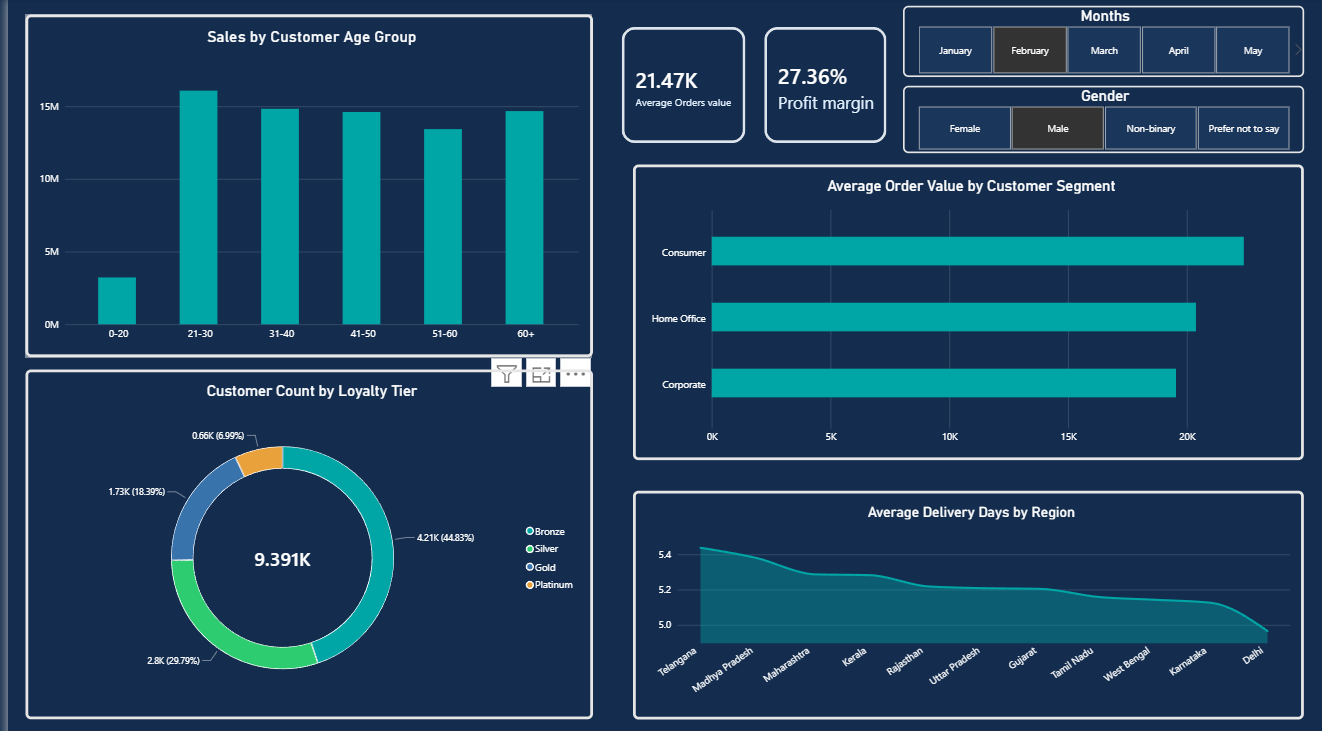

Layout of this report page (visuals, bound fields, positions):
{"tool":"powerbi","page":{"name":"Customer & Market Analysis","canvas":[1920,1080],"ordinal":2},"visuals":[{"type":"clusteredColumnChart","title":"\tSales by Customer Age Group","fields":{"Category":["customers.Age Group"],"Y":["Sum(orders.sales_amount)"]},"box":[24.7,24.7,821.3,496.1],"z":0},{"type":"donutChart","title":"\tCustomer Count by Loyalty Tier","fields":{"Category":["customers.loyalty_tier"],"Y":["CountNonNull(customers.customer_id)"]},"box":[24.7,539.3,821.3,506.3],"z":1000},{"type":"barChart","title":"\tAverage Order Value by Customer Segment","fields":{"Category":["customers.customer_segment"],"Y":["orders.Average Orders value"]},"box":[905.7,242.9,971.5,428.1],"z":2000},{"type":"areaChart","title":"Average Delivery Days by Region","fields":{"Category":["orders.region"],"Y":["Avg(orders.delivery_days)"]},"box":[905.7,714.2,971.5,331.4],"z":3000},{"type":"cardVisual","fields":{"Data":["orders.Average Orders value"]},"box":[888.5,43.4,179.2,168.3],"z":7001},{"type":"cardVisual","fields":{"Data":["orders.Profit margin"]},"box":[1094.8,43.4,177.3,168.3],"z":7002},{"type":"slicer","title":"Months","fields":{"Values":["orders.order_date.Variation.Date Hierarchy.Month"]},"box":[1295.7,12.7,580.9,103.2],"z":7003},{"type":"slicer","title":"Gender","fields":{"Values":["customers.gender"]},"box":[1295.7,128.5,580.9,97.7],"z":7004}]}

Visuals, with their boxes in screenshot pixels (x1, y1, x2, y2), scaled from the page's 1920x1080 canvas onto the 1322x731 screenshot:
"	Sales by Customer Age Group" clusteredColumnChart: [x1=17, y1=17, x2=583, y2=353]
"	Customer Count by Loyalty Tier" donutChart: [x1=17, y1=365, x2=583, y2=708]
"	Average Order Value by Customer Segment" barChart: [x1=624, y1=164, x2=1293, y2=454]
"Average Delivery Days by Region" areaChart: [x1=624, y1=483, x2=1293, y2=708]
cardVisual - orders.Average Orders value: [x1=612, y1=29, x2=735, y2=143]
cardVisual - orders.Profit margin: [x1=754, y1=29, x2=876, y2=143]
"Months" slicer: [x1=892, y1=9, x2=1292, y2=78]
"Gender" slicer: [x1=892, y1=87, x2=1292, y2=153]
